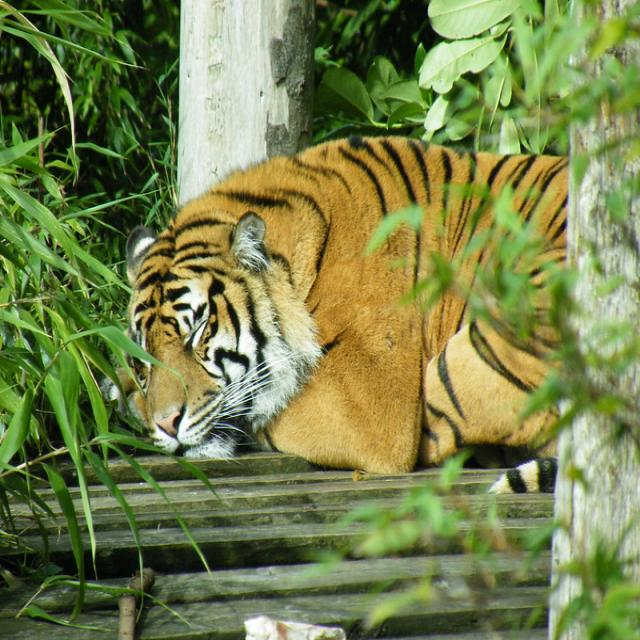Tiger: (106, 130, 570, 475)
